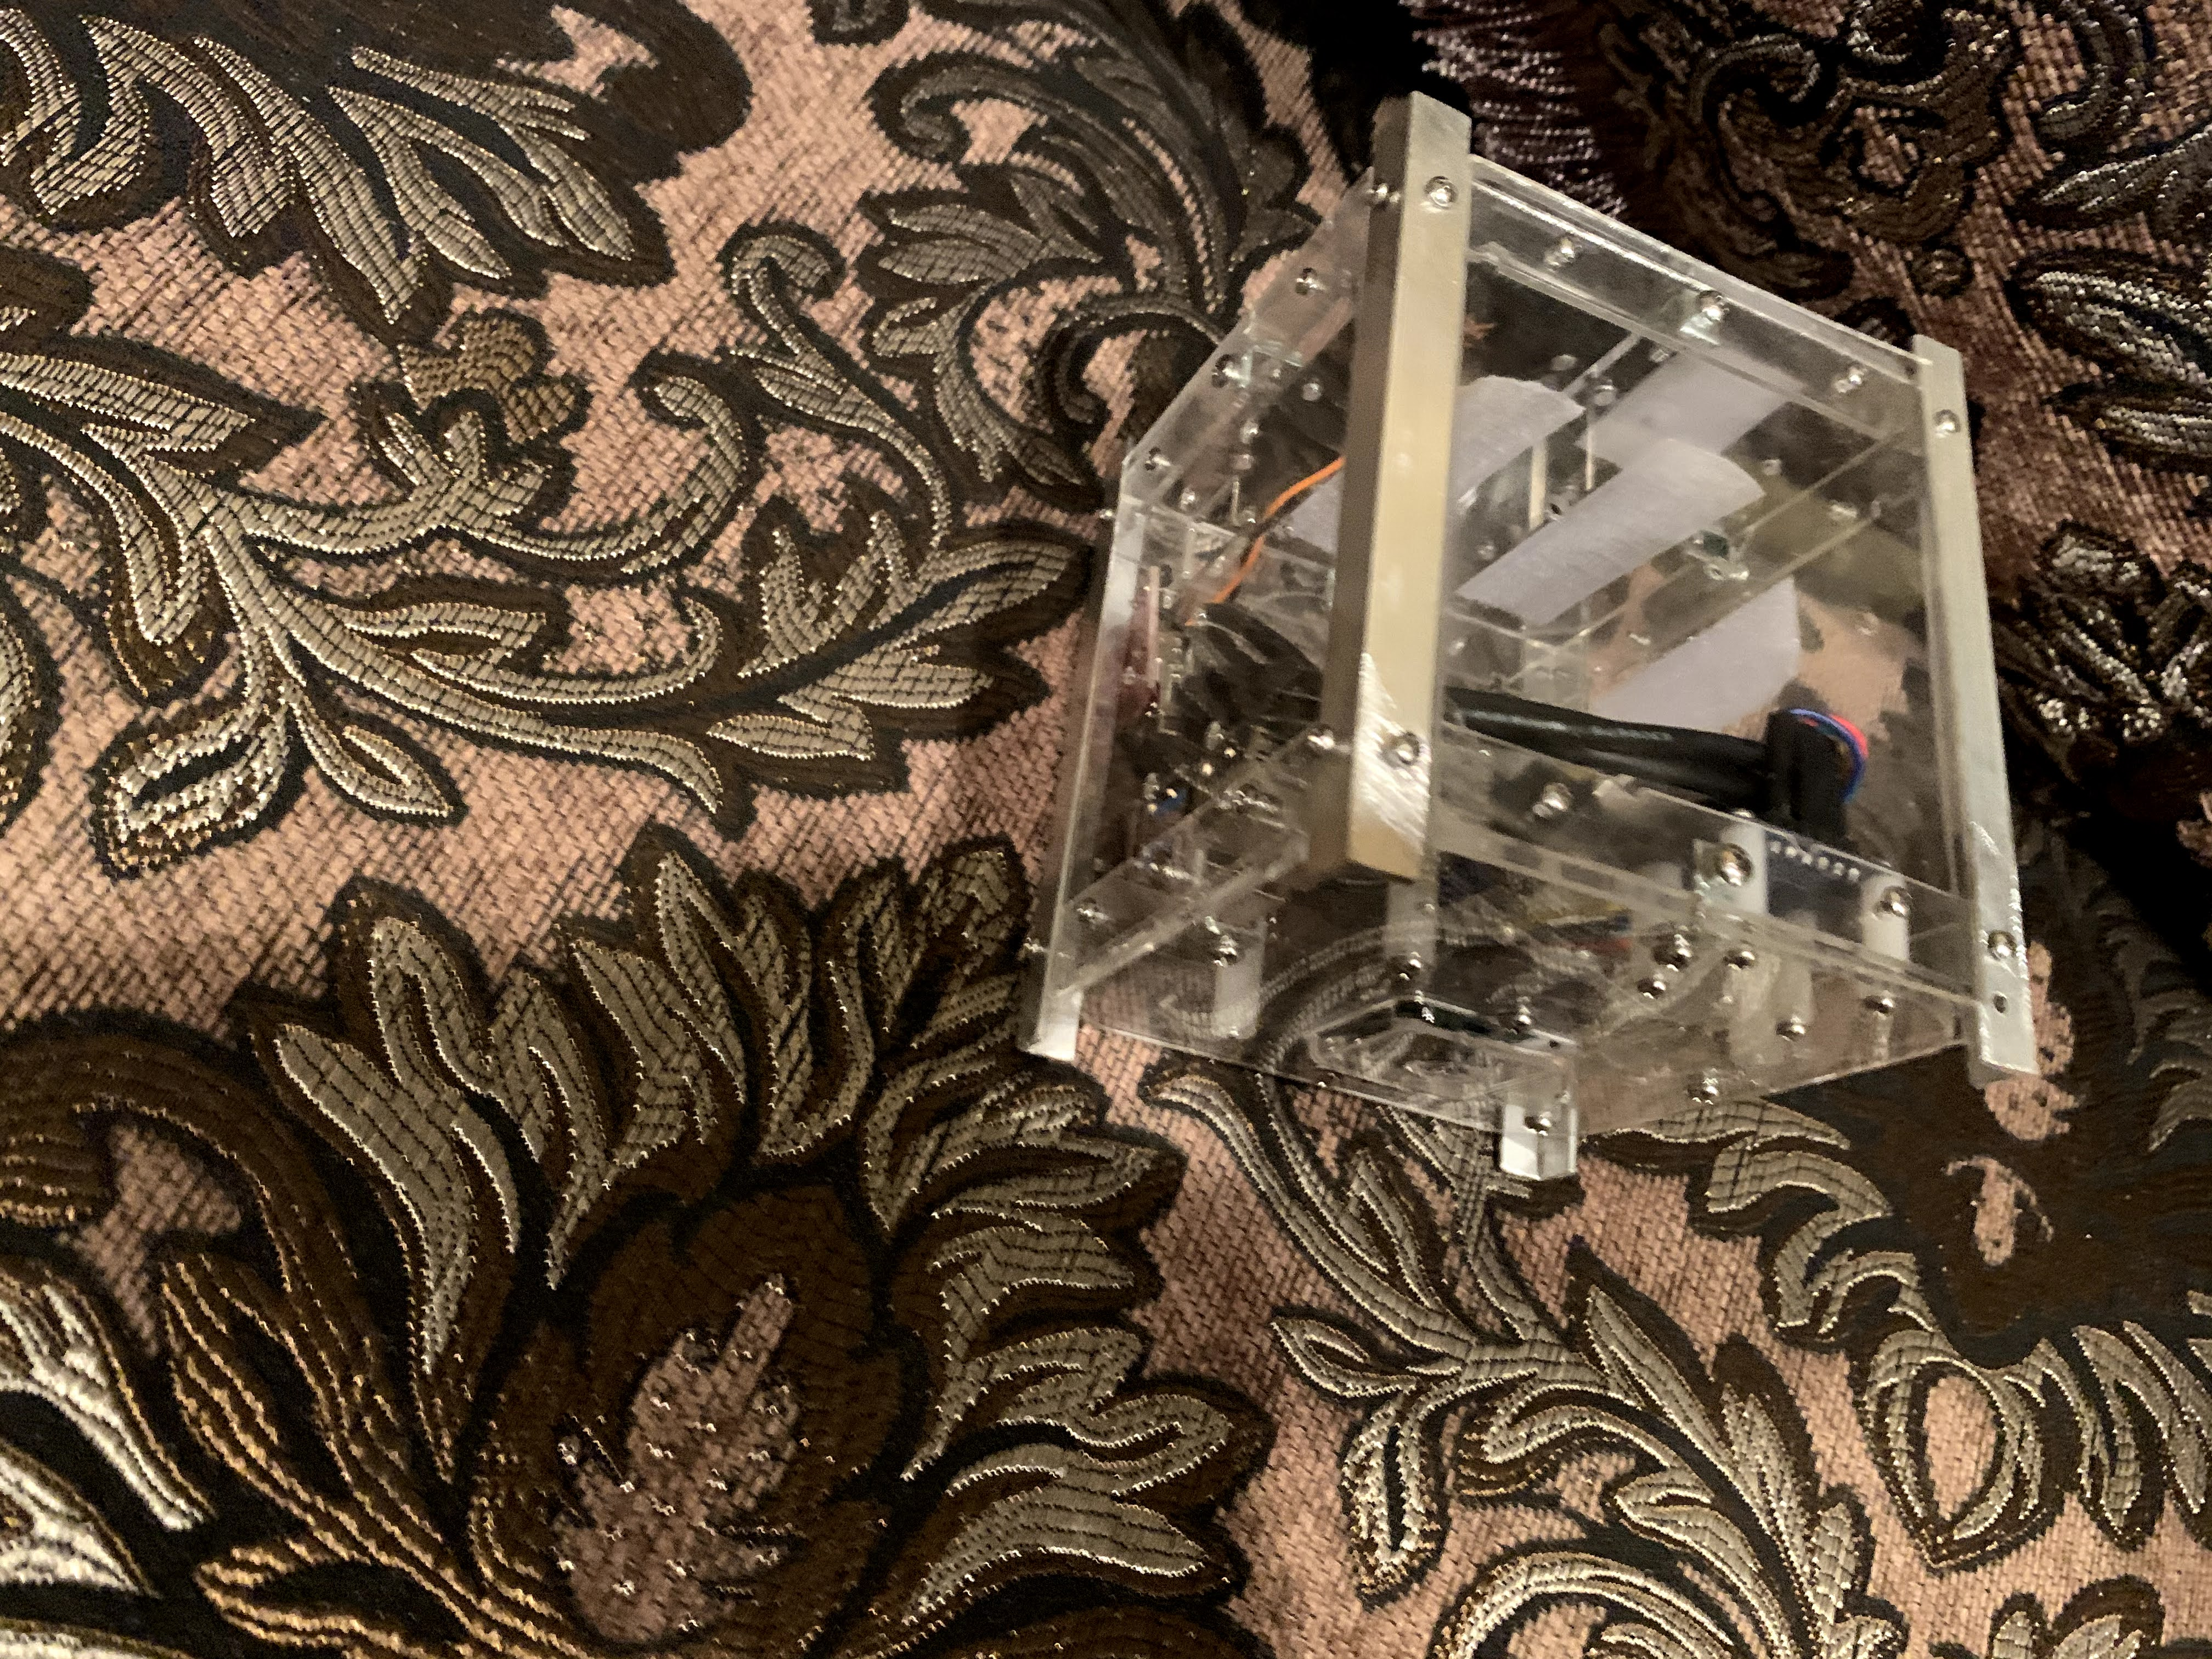Space-debris-cubesat: (1043, 68, 2078, 1232)
